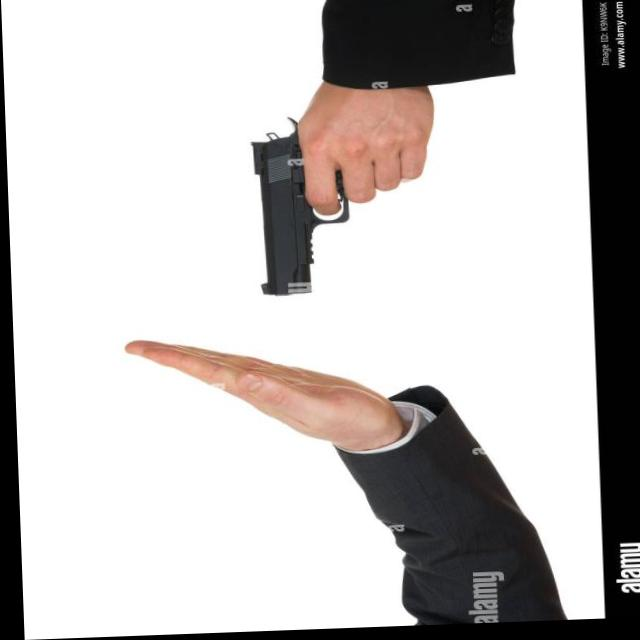handgun: (251, 119, 369, 298)
